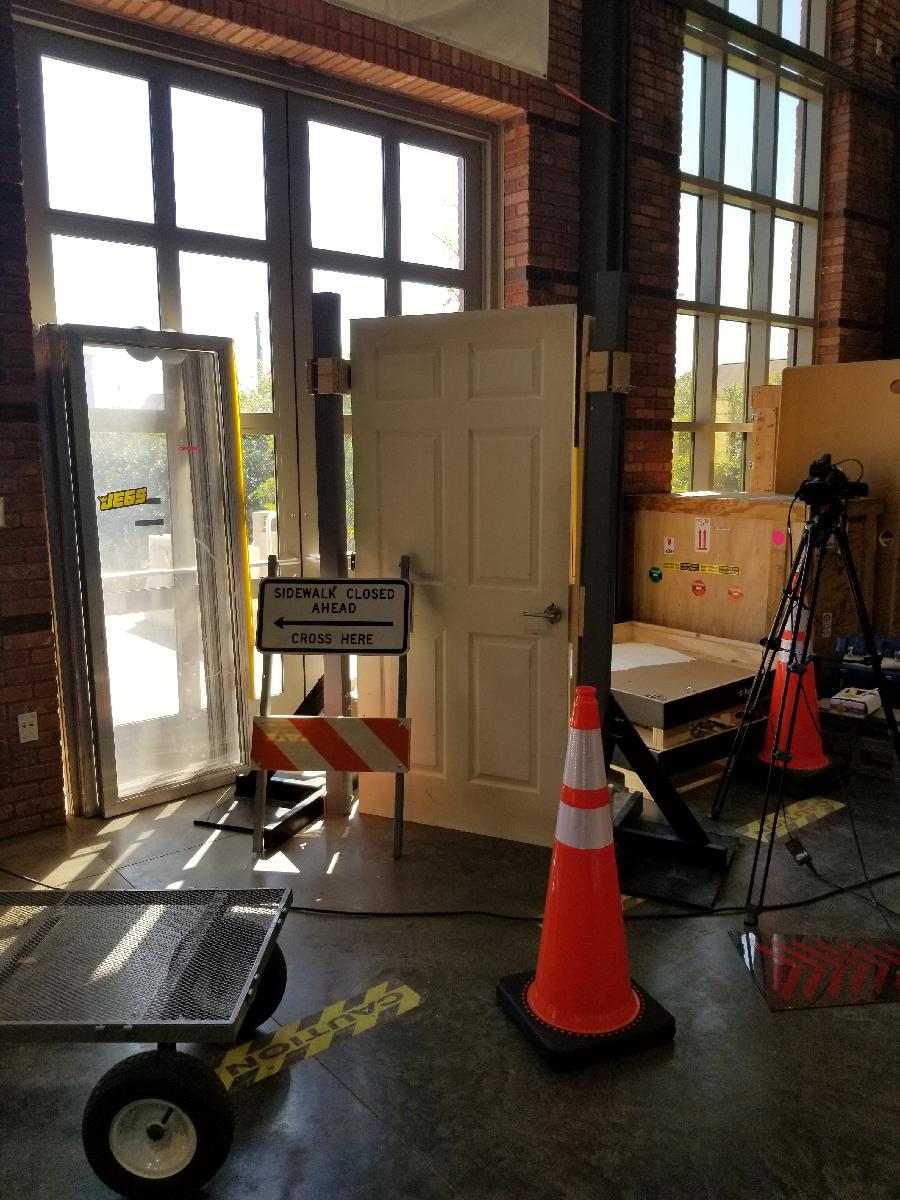door: (347, 300, 578, 856)
doorHandle: (523, 601, 565, 632)
